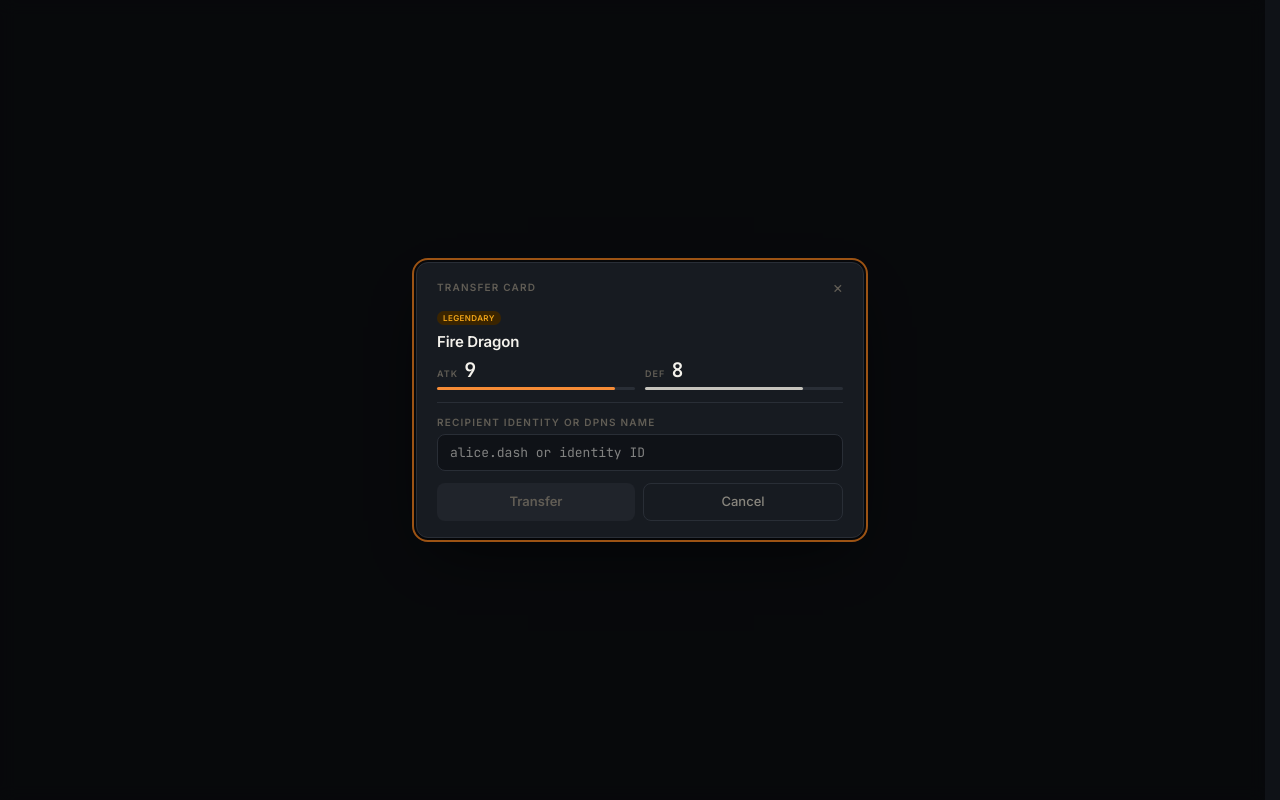
Test: TransferModal › shows the reverse DPNS hint when a pasted ID resolves via ambiguous fallback
The width and height of the screenshot is (1280, 800).
Type "5LmvdJbGAtnk2Z3y5bwa2YcX9hk5GhVePtkT21a2mxAn" into the field with placeholder "alice.dash or identity ID" at (640, 452), box x1=437 y1=434 x2=843 y2=471
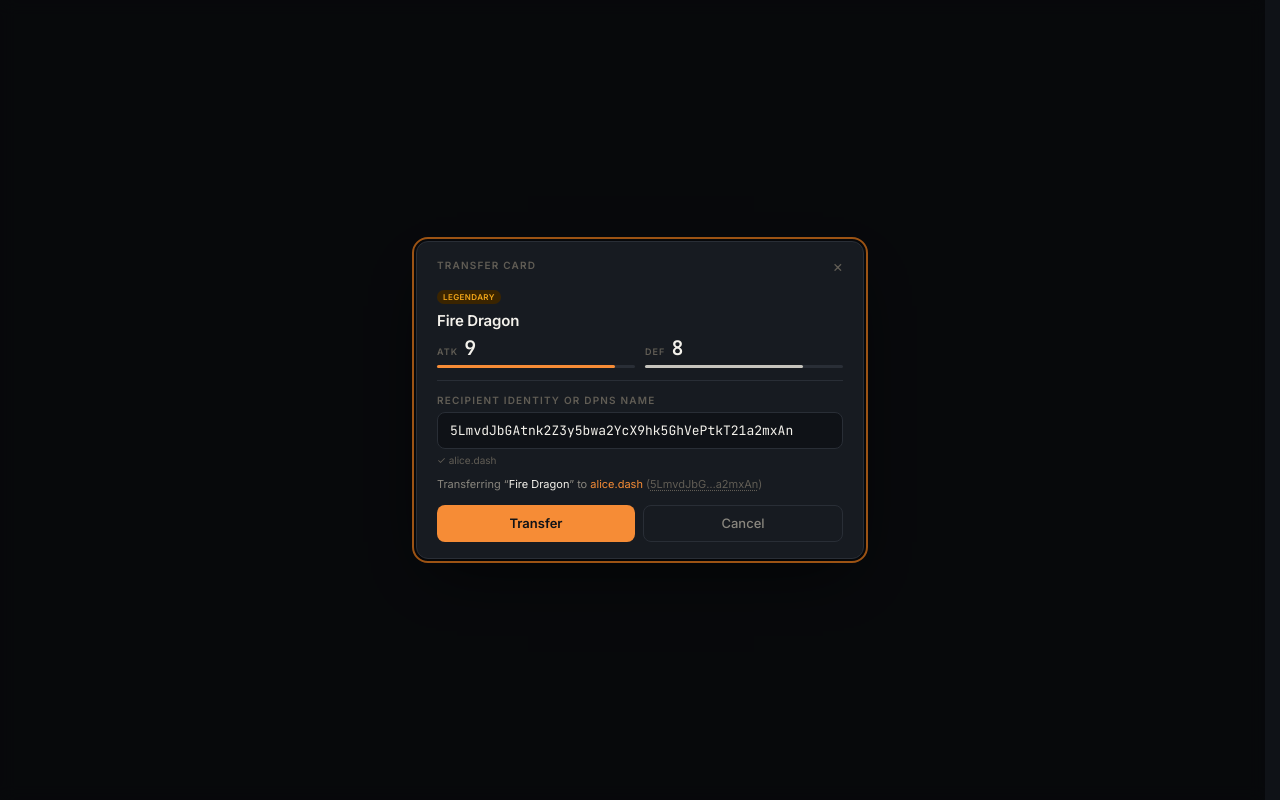
expect the text "✓ alice.dash" is shown: met, box x1=437 y1=454 x2=496 y2=466
expect the text "Transferring “Fire Dragon” to alice.dash ( 5LmvdJbG…a2mxAn )" is shown: met, box x1=437 y1=477 x2=762 y2=491
